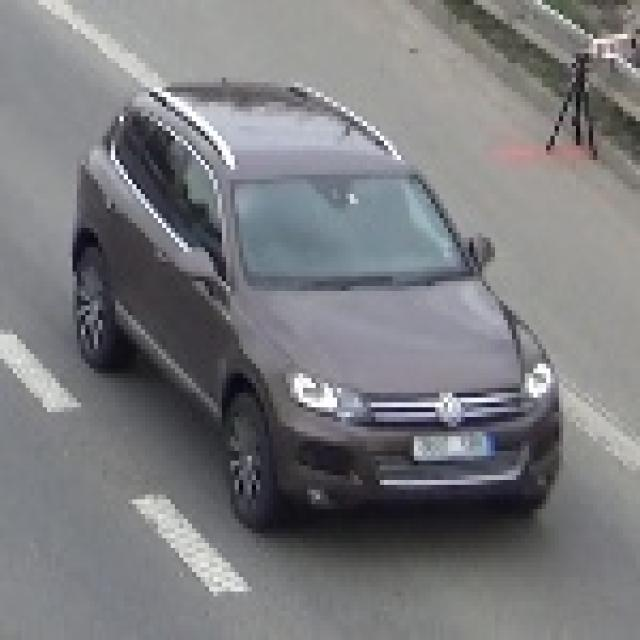SUV: (61, 78, 563, 527)
